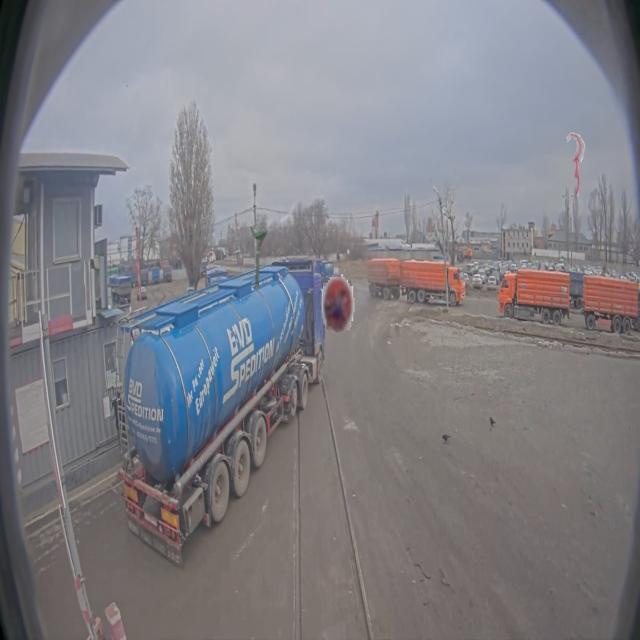floating object: (322, 268, 354, 332), (566, 132, 586, 196), (249, 225, 267, 289)
